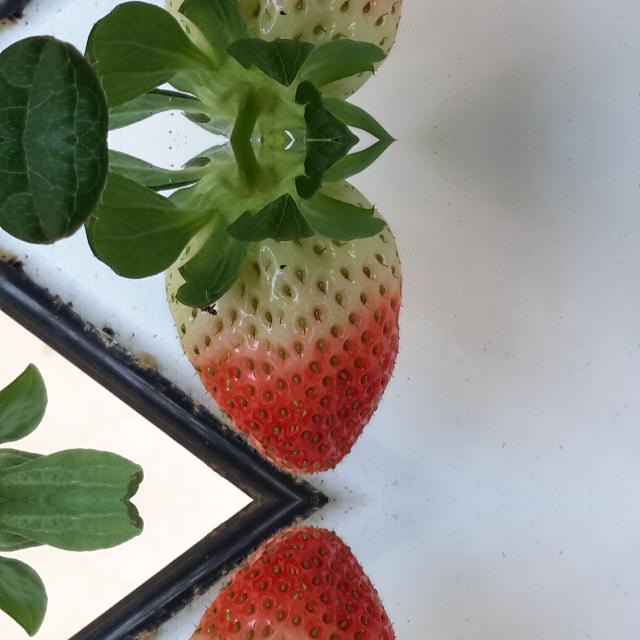Health_75: (166, 180, 404, 476), (166, 524, 403, 640), (166, 0, 403, 99)
